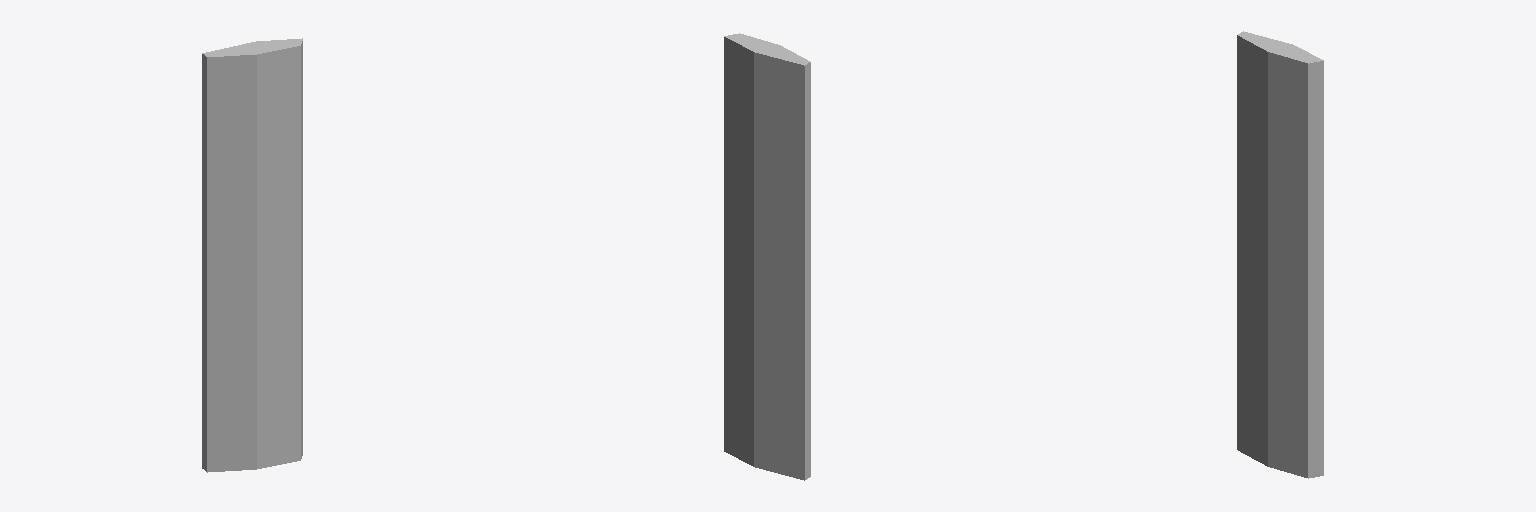
The picture shows the model from 3 angles: view 1: azimuth 30°, elevation 25°; view 2: azimuth 150°, elevation 25°; view 3: azimuth 330°, elevation 25°; orthographic projection.
Parts seen in each view (by area): view 1: JM.002_CUCurve.1767; view 2: JM.002_CUCurve.1767; view 3: JM.002_CUCurve.1767.
Part boxes in pixels (bbox=[...]): JM.002_CUCurve.1767: bbox=[202, 38, 302, 472]; JM.002_CUCurve.1767: bbox=[724, 33, 810, 480]; JM.002_CUCurve.1767: bbox=[1237, 31, 1323, 478].
Size of the model in its own units: 0.0115 by 0.05 by 0.0037.